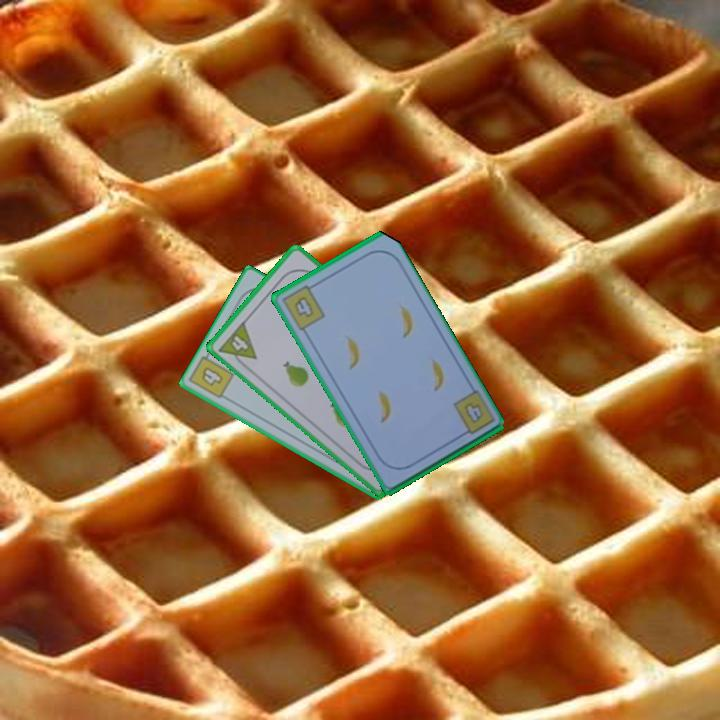4b: (278, 280, 328, 333), (197, 363, 226, 389), (460, 398, 486, 426)
4p: (215, 317, 260, 372)
